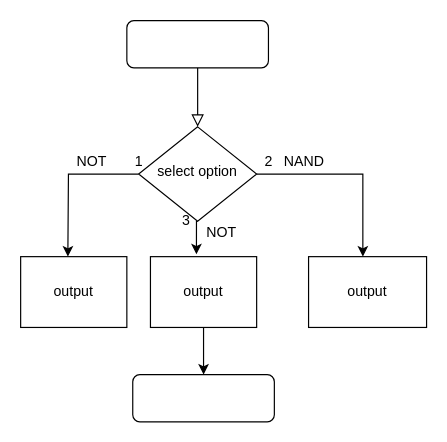
This 447x442 diagram has some shape labels left out. Here are the shapes that lost their labels. From the top down, the centre of each, then its label:
(197,43): start
(203,397): stop
